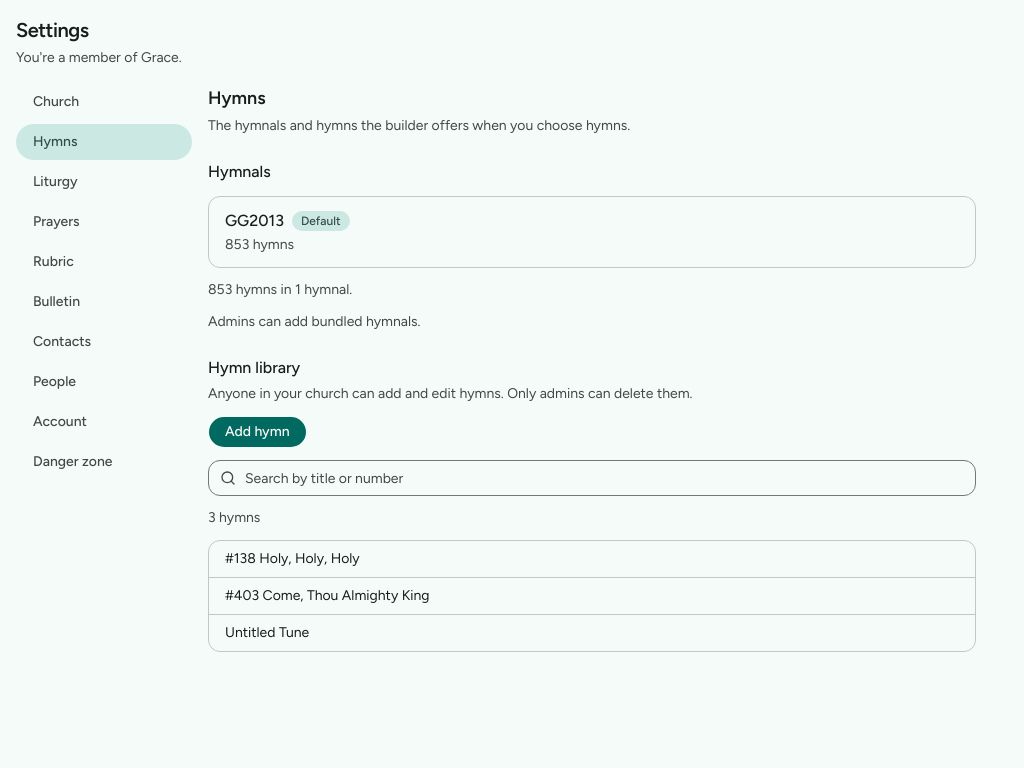
Test case: Settings → Hymns, the Hymn library (slice 6a-2) › lists the hymns in the server's order with the count, and a member edits one without the year or familiarity
Check: the text "3 hymns" is shown, box [208, 509, 260, 526]
Check: the text "Anyone in your church can add and edit hymns. Only admins can delete them." is shown, box [208, 385, 692, 402]
Click the button "#138 Holy, Holy, Holy" at (292, 558), box [209, 541, 975, 577]
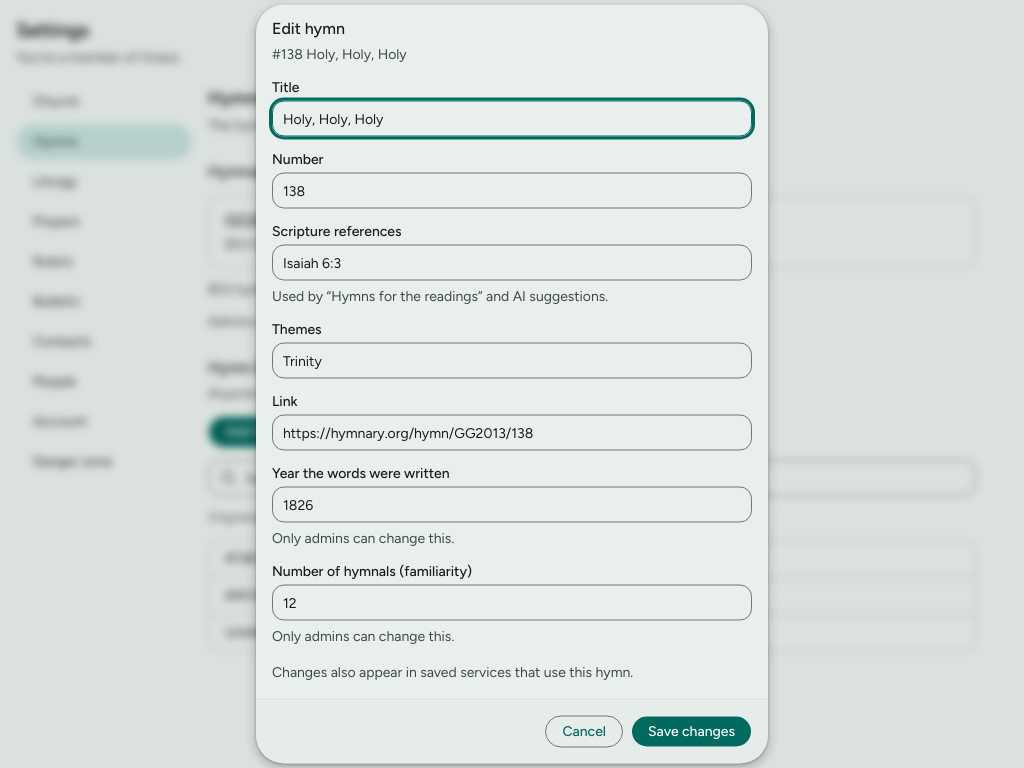
Check: the field labelled "Title" holds "Holy, Holy, Holy", box [272, 100, 752, 136]
Check: the field labelled "Themes" holds "Trinity", box [272, 342, 752, 378]
Check: the field labelled "Number of hymnals (familiarity)" holds "12", box [272, 584, 752, 620]
Replace the text in the field labelled "Scripture references" with "Revelation 4:8" at (512, 262), box [272, 244, 752, 280]
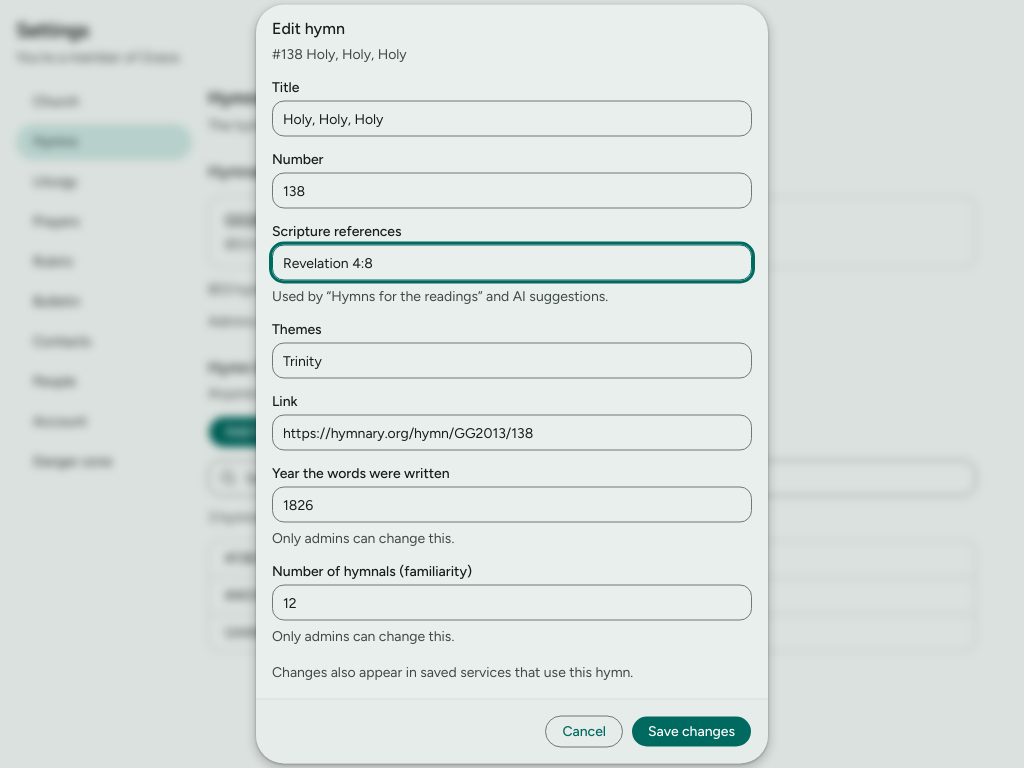
Click the button "Save changes" at (692, 732), box [631, 716, 752, 748]
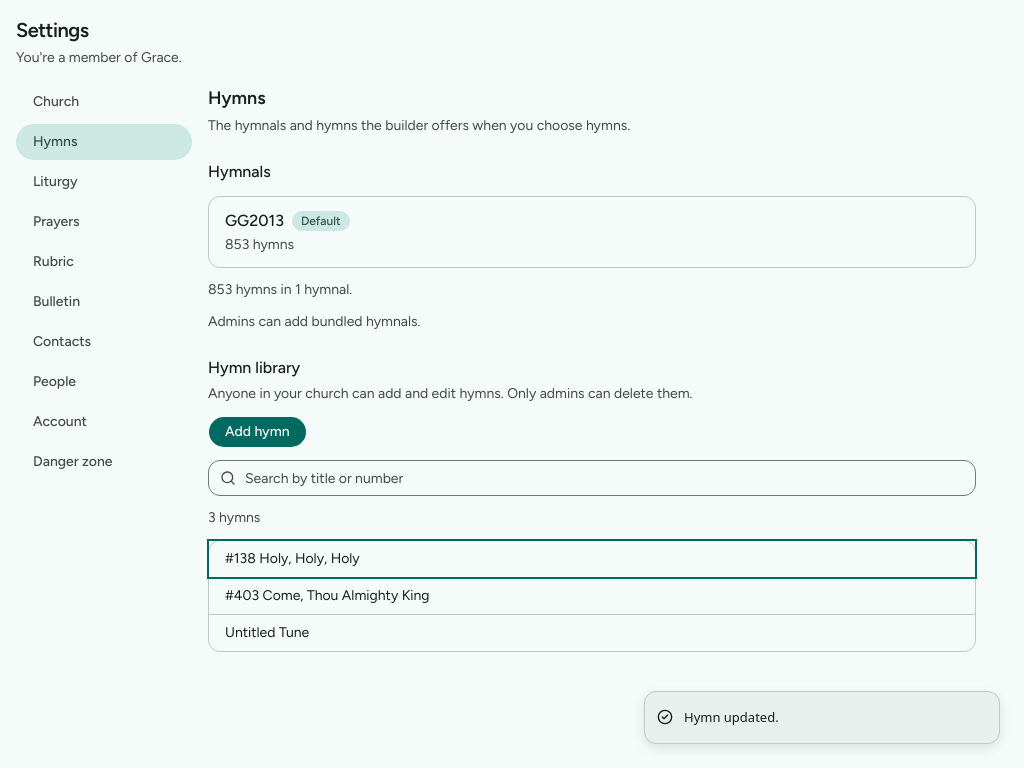
Check: the text "Hymn updated." is shown, box [684, 708, 779, 727]
Check: the dialog is gone
